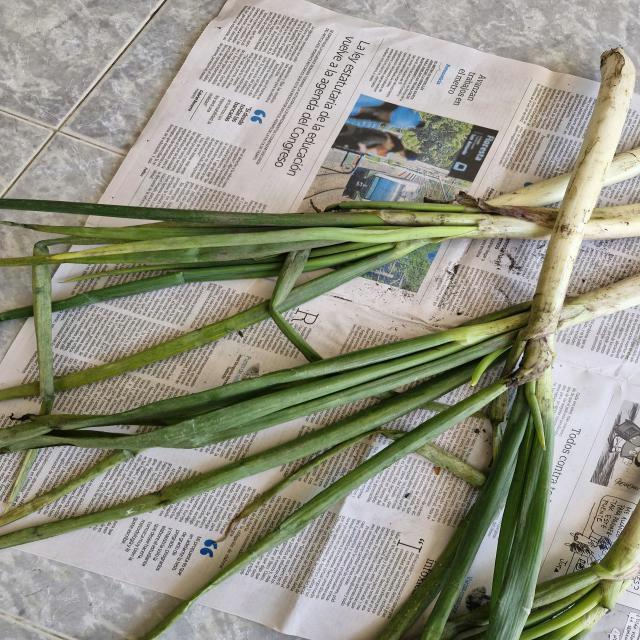green_onion: (0, 170, 636, 358)
